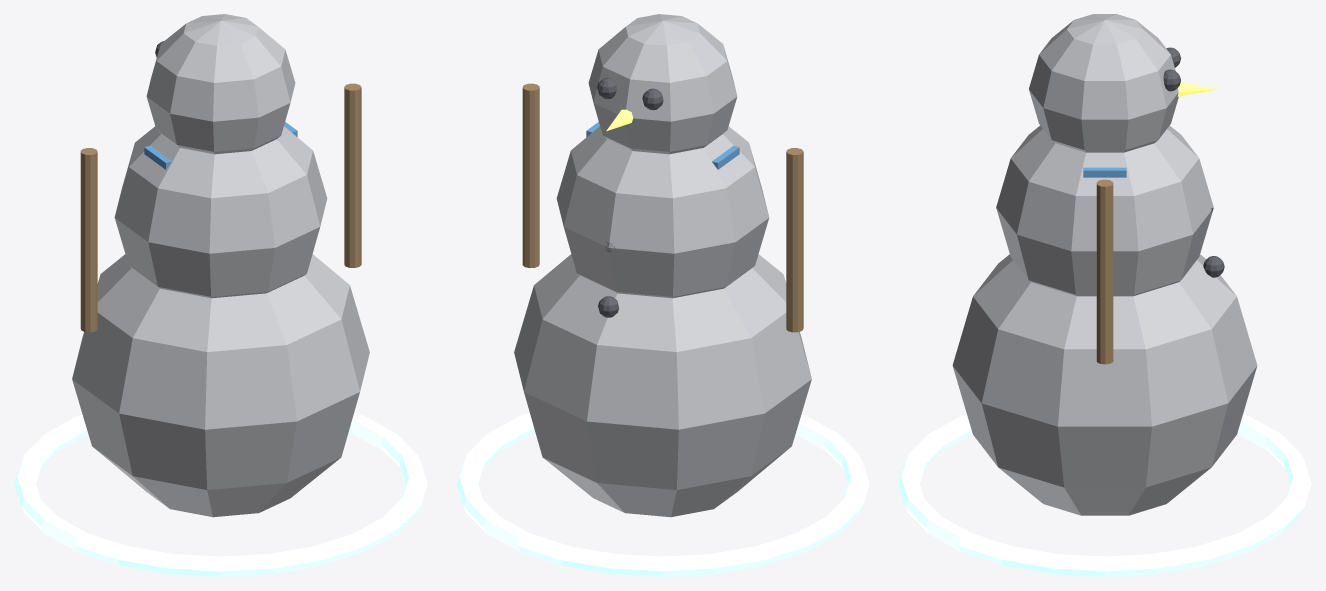
Rendered from frosty_snowman.glb.
The picture shows the model from 3 angles, left to right: view 1: azimuth 30°, elevation 25°; view 2: azimuth 150°, elevation 25°; view 3: azimuth 270°, elevation 25°; orthographic projection.
Parts seen in each view (by area): view 1: frosty_snowman; view 2: frosty_snowman; view 3: frosty_snowman.
Part boxes in pixels (box(x1,y1,x2,y2)): frosty_snowman: box(14, 14, 427, 576); frosty_snowman: box(456, 14, 869, 576); frosty_snowman: box(898, 14, 1311, 576).
Size of the model in its own units: 1.9 by 2.45 by 1.9.
